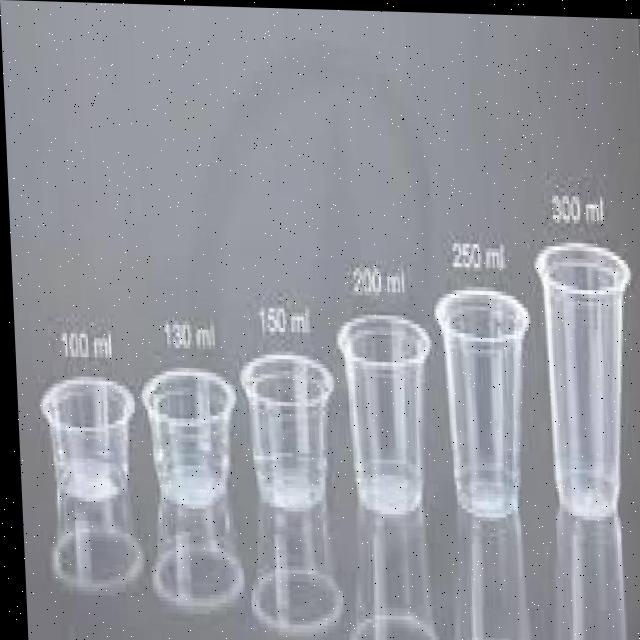cup: (523, 212, 640, 543), (422, 244, 542, 545), (324, 282, 437, 534)
